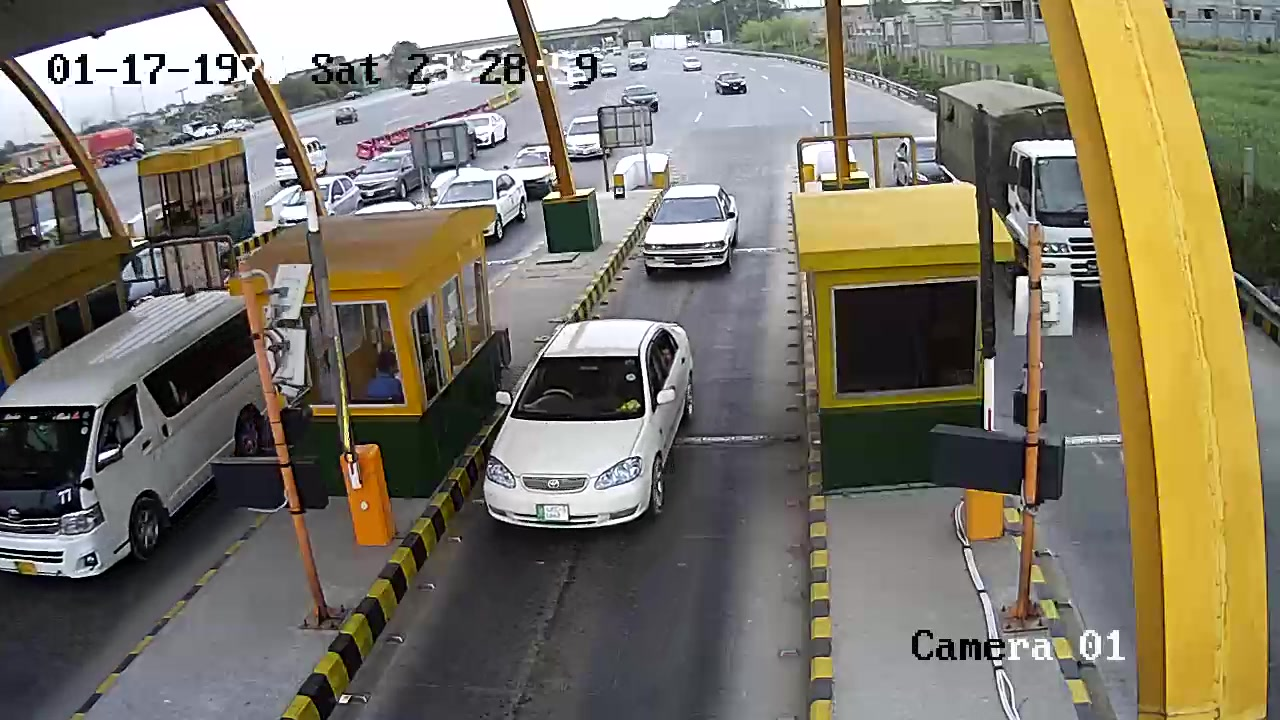F1: (480, 304, 702, 535), (626, 178, 750, 285)
